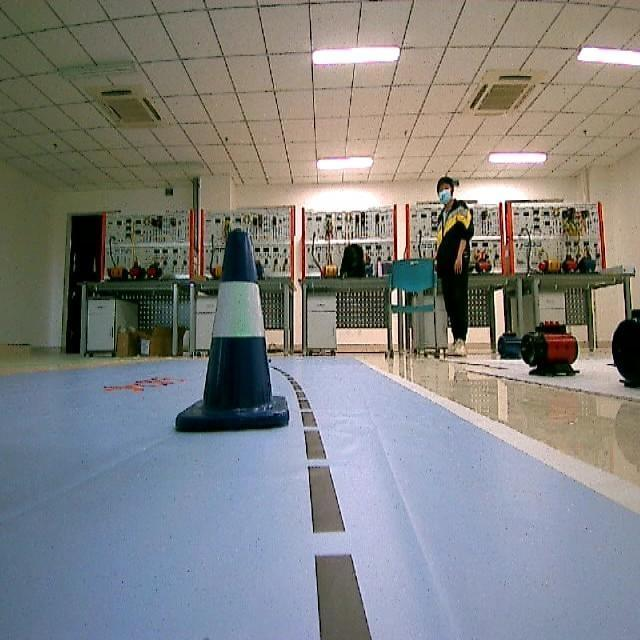obstacle: (174, 223, 300, 440)
